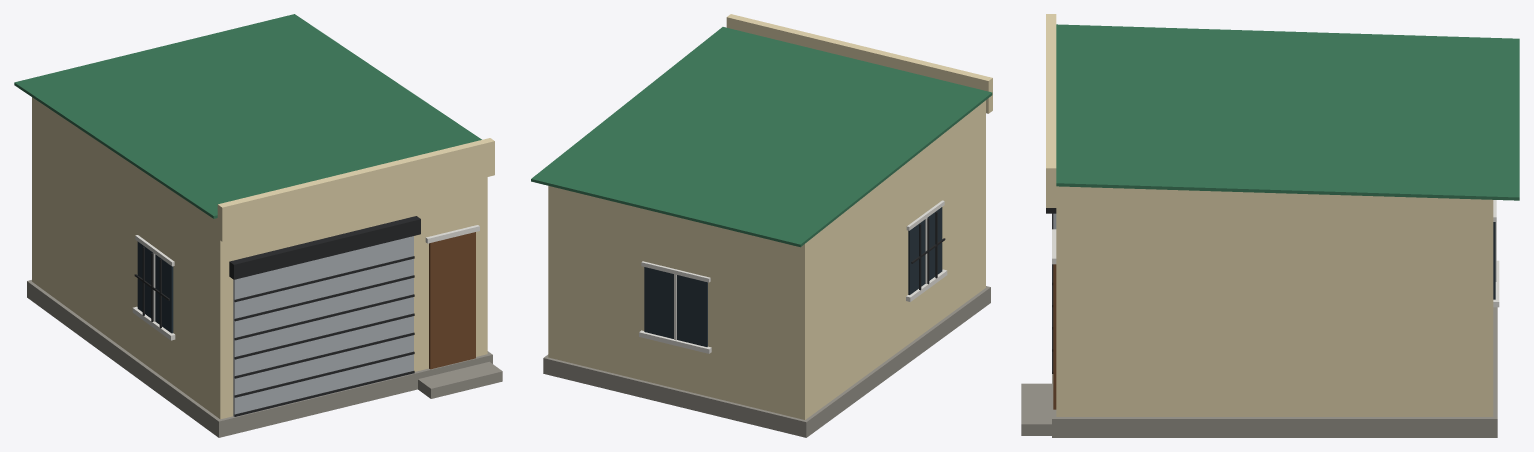
File: BAY_F_Shop_K.glb
The picture shows the model from 3 angles, left to right: view 1: azimuth 30°, elevation 25°; view 2: azimuth 150°, elevation 25°; view 3: azimuth 270°, elevation 25°; orthographic projection. The views are drawn at different scales.
Visible parts, largest first — view 1: BAY_F_Shop_K; view 2: BAY_F_Shop_K; view 3: BAY_F_Shop_K.
Boxes of the visible parts, <box> form: BAY_F_Shop_K: <box>14,14,502,437</box>; BAY_F_Shop_K: <box>531,14,992,437</box>; BAY_F_Shop_K: <box>1021,14,1519,437</box>.
Size of the model in its own units: 4.3 by 3.4 by 5.7.
1 material, 1 textured.
